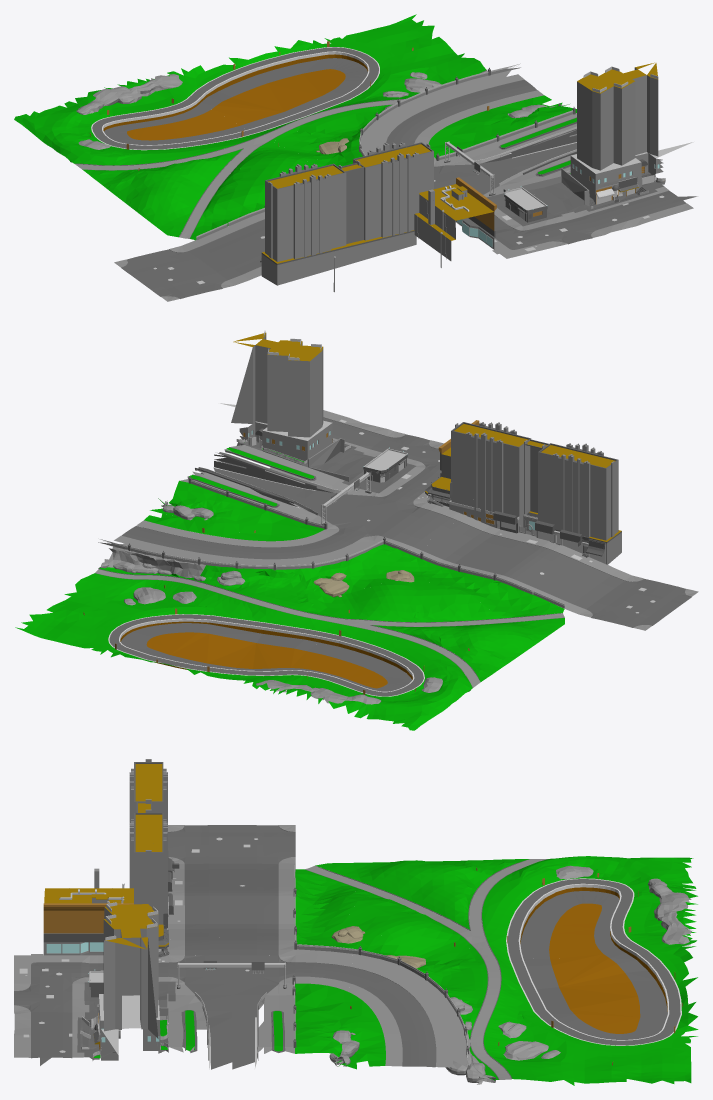
File: bronx_w_2.FBX
The picture shows the model from 3 angles, top to bottom: view 1: azimuth 30°, elevation 25°; view 2: azimuth 150°, elevation 25°; view 3: azimuth 270°, elevation 25°; orthographic projection. The views are drawn at different scales.
Parts seen in each view (by area): view 1: unnamed, null; view 2: unnamed, null; view 3: unnamed, null.
Boxes of the visible parts, x1=… form: unnamed: x1=114, y1=14, x2=697, y2=301; null: x1=14, y1=71, x2=320, y2=226; unnamed: x1=15, y1=330, x2=698, y2=683; null: x1=252, y1=574, x2=554, y2=730; unnamed: x1=14, y1=759, x2=698, y2=1085; null: x1=342, y1=856, x2=697, y2=958.
Size of the model in its own units: 247 by 67.03 by 244.
